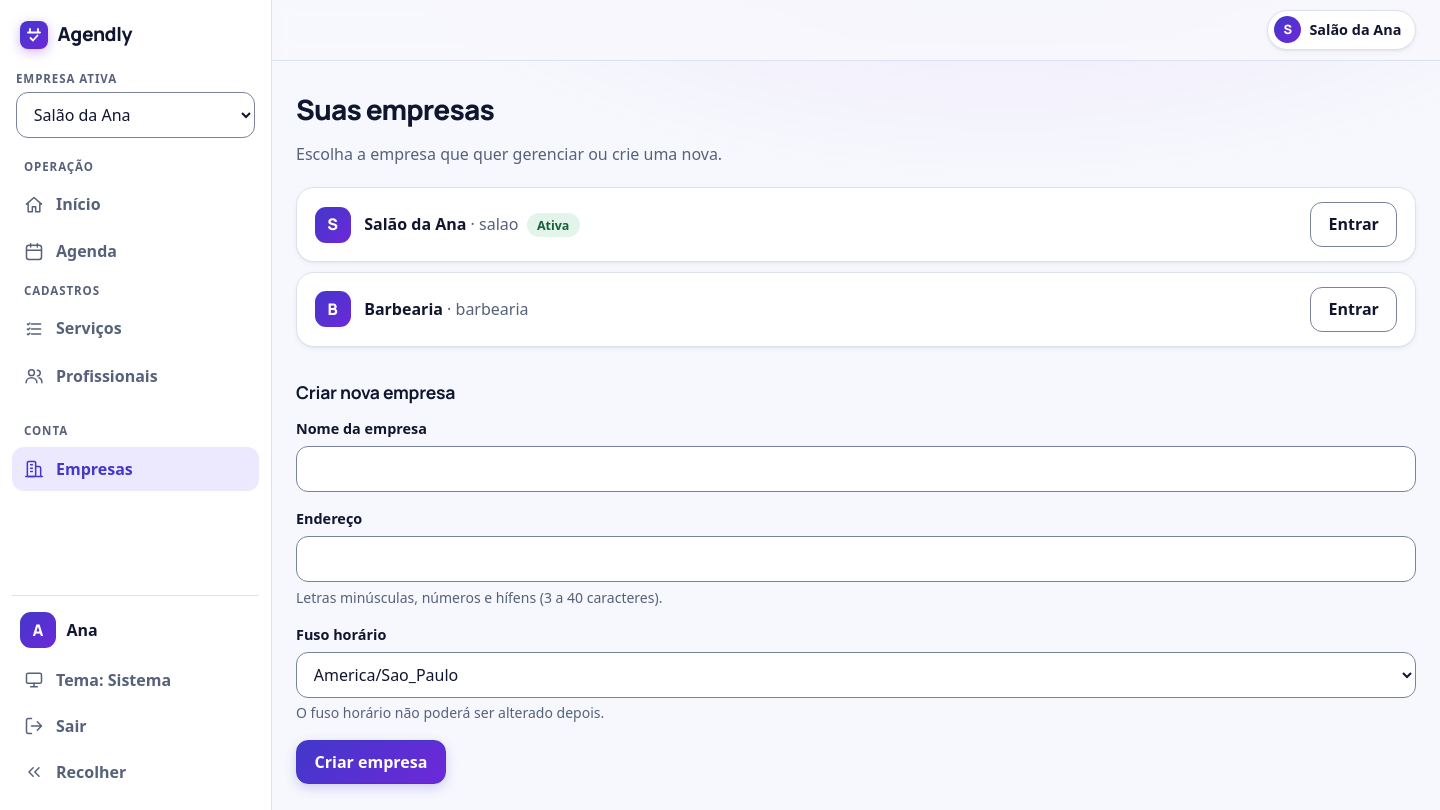
Test: seletor de empresa › lista as empresas do usuário, marca a ativa e escolher outra troca a empresa da SESSÃO (por slug)
The image size is (1440, 810).
Expected: the number of list items is 2, [296,187,1416,262]; [296,272,1416,347]
Expected: the text "Ativa" is shown, [526,213,580,237]
Click the button with aria-label "Entrar em Barbearia". click: (1354, 309)
box: [1310,287,1397,332]
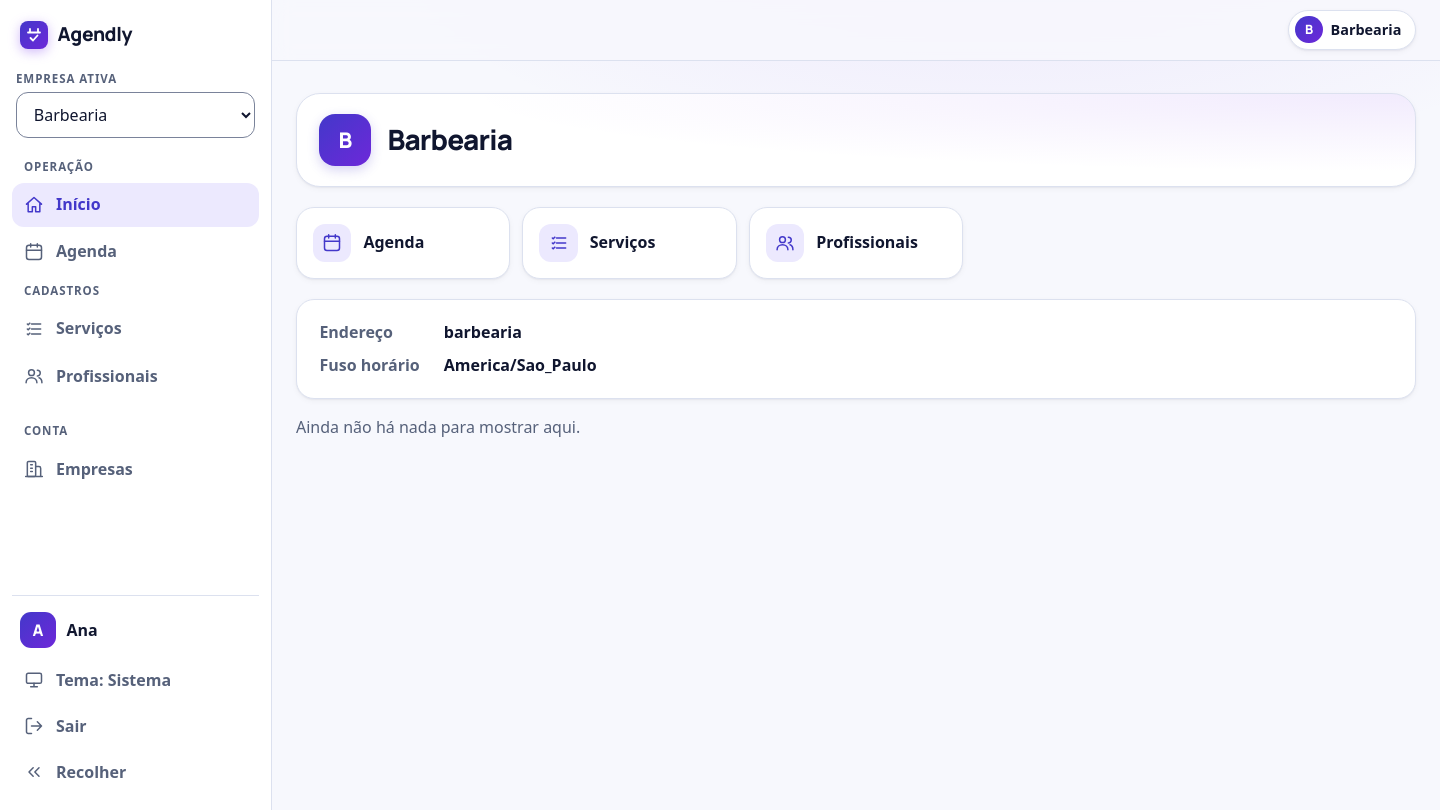
Expected: the heading "Barbearia" is shown, [387,123,512,156]
Expected: the text "barbearia" is shown, [444,321,522,343]
